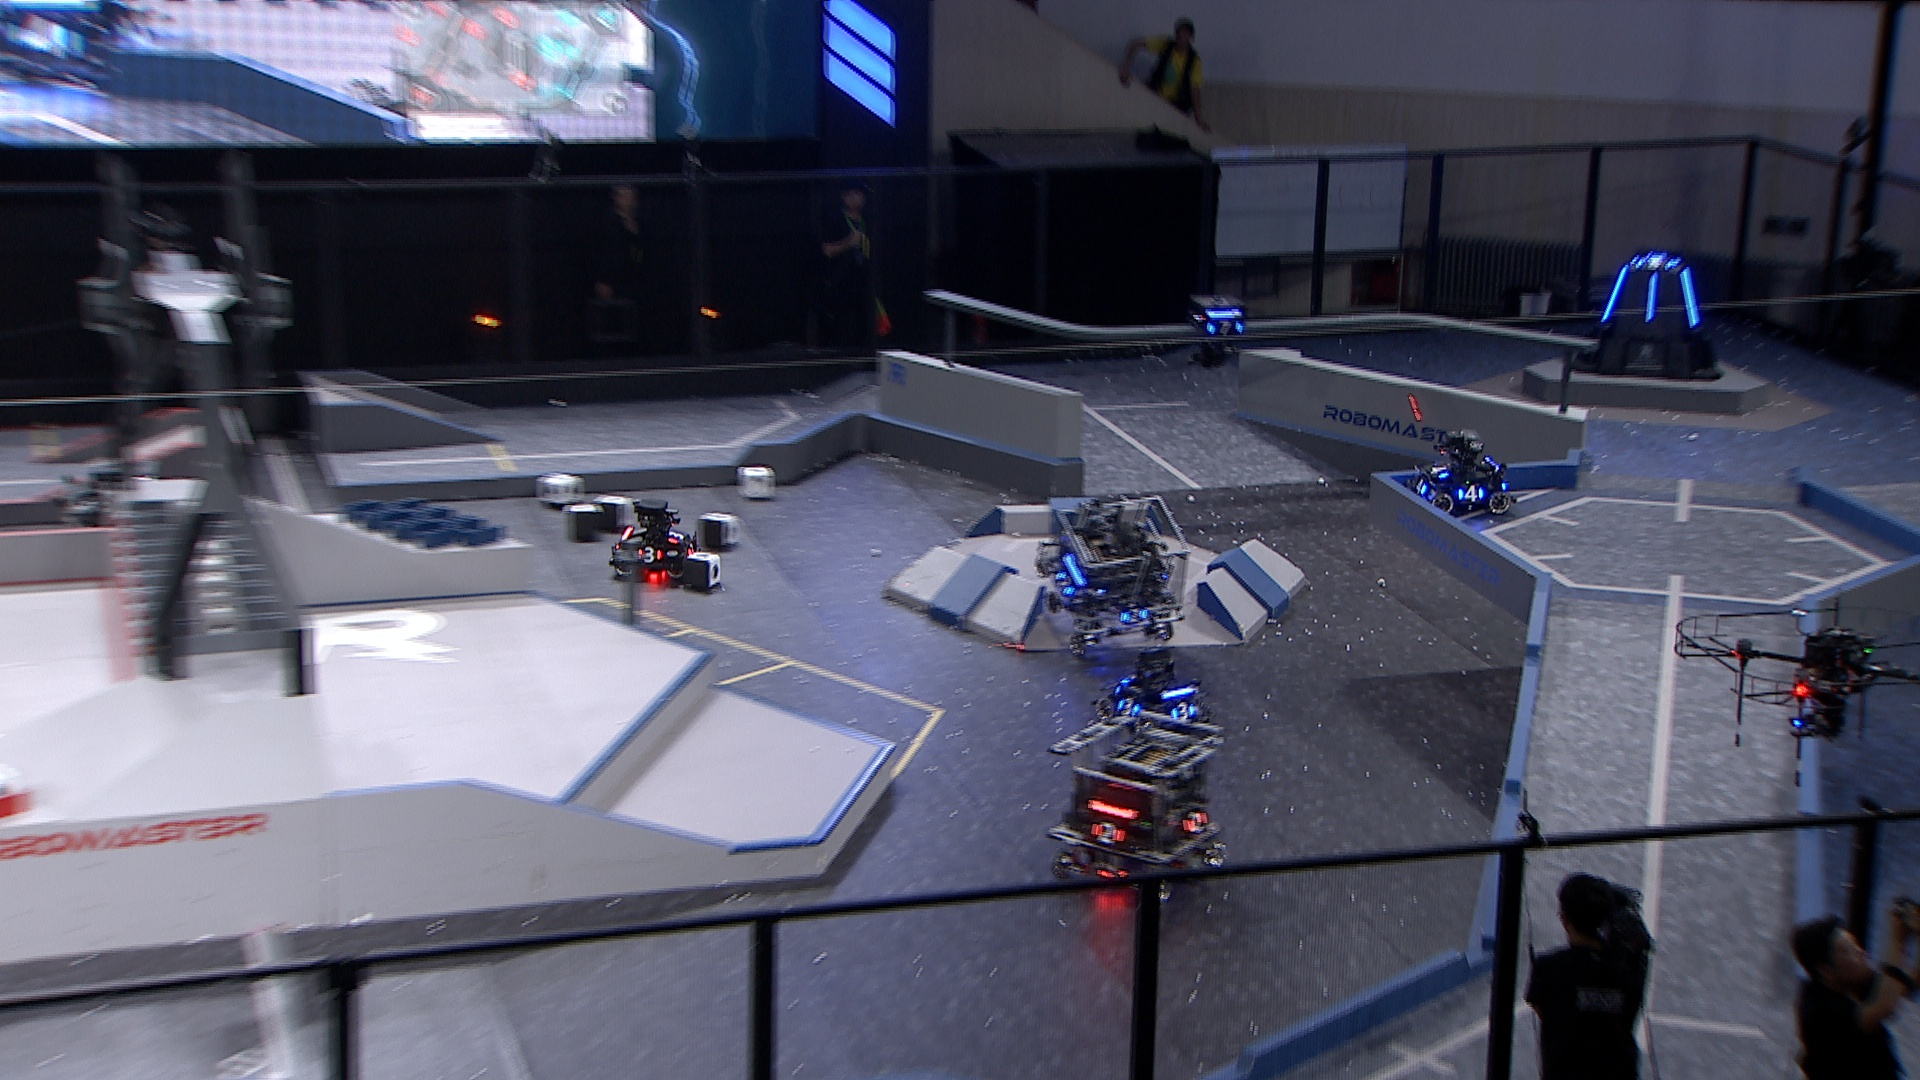armor: (1596, 262, 1633, 324), (1680, 262, 1700, 330), (1642, 266, 1662, 324), (1087, 820, 1126, 845), (1204, 318, 1247, 338), (1167, 698, 1197, 723), (1185, 804, 1209, 835), (1634, 255, 1675, 272), (1054, 570, 1076, 599), (1117, 607, 1149, 626), (1455, 483, 1486, 502), (636, 545, 665, 564), (665, 524, 686, 545), (1116, 698, 1139, 716), (1429, 462, 1449, 481), (1414, 475, 1429, 498), (684, 541, 699, 564)
base: (1569, 247, 1727, 385)
car: (1040, 699, 1230, 905), (1035, 491, 1192, 661), (1098, 642, 1216, 741), (1404, 427, 1519, 520), (609, 495, 703, 585)
watcher: (1182, 291, 1249, 372)
